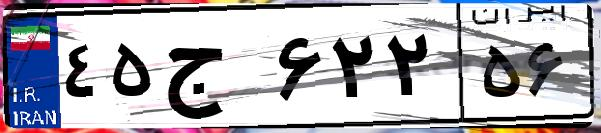2: (385, 28, 445, 110), (330, 28, 385, 110)
4: (57, 26, 110, 100)
5: (475, 38, 525, 113), (110, 28, 158, 98)
6: (270, 28, 330, 110), (525, 38, 570, 115)
ج: (158, 20, 270, 120)
